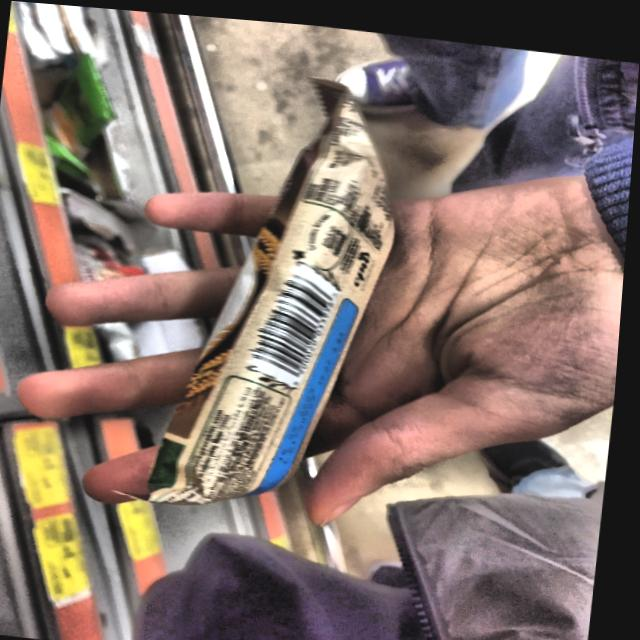Plastic: (133, 65, 481, 551)
